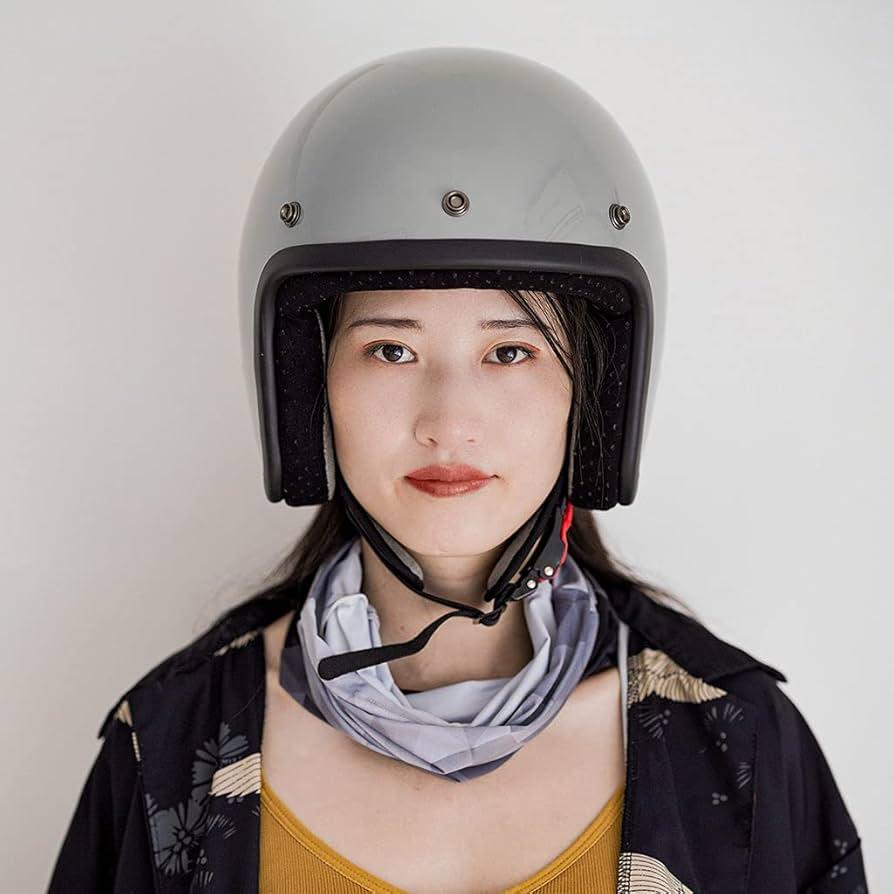helmets: (235, 51, 671, 511)
